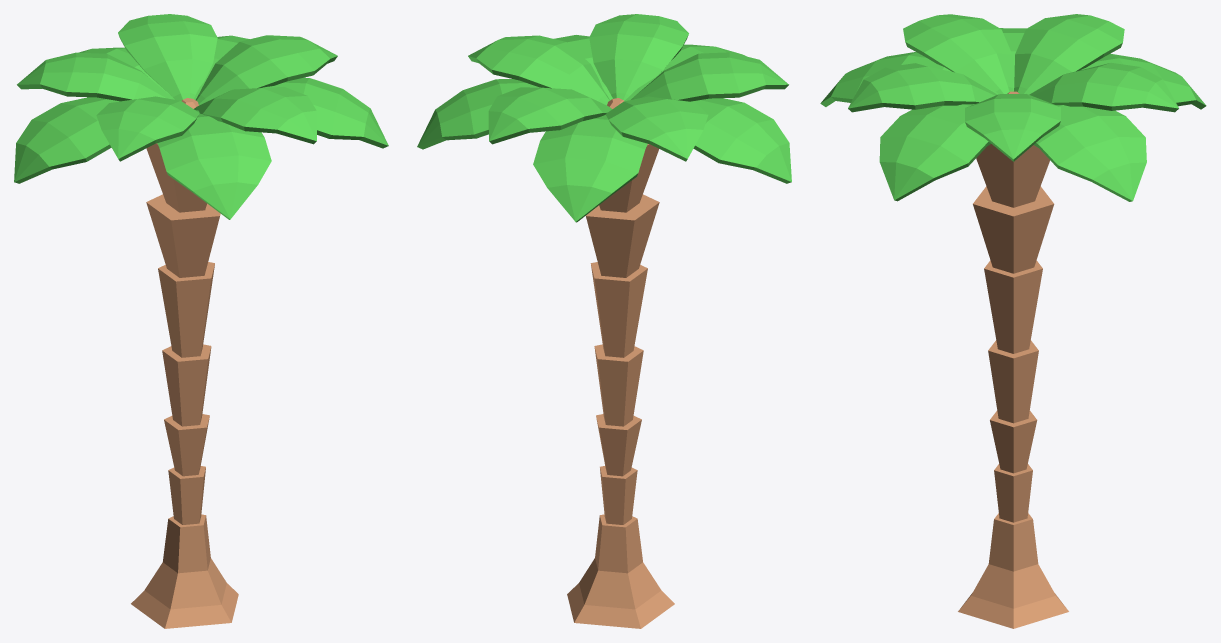
File: O_PalmTree1.glb
3 views of the same model, side by side, from view 1: azimuth 30°, elevation 25°; view 2: azimuth 150°, elevation 25°; view 3: azimuth 270°, elevation 25° (orthographic).
Parts seen in each view (by area): view 1: PalmTree1; view 2: PalmTree1; view 3: PalmTree1.
Part boxes in pixels (left/top/right/bottom): PalmTree1: left=14, top=14, right=388, bottom=628; PalmTree1: left=417, top=14, right=791, bottom=628; PalmTree1: left=820, top=14, right=1206, bottom=628.
Size of what is drawn, in the model's own units: 4.02 by 6.35 by 4.11.
